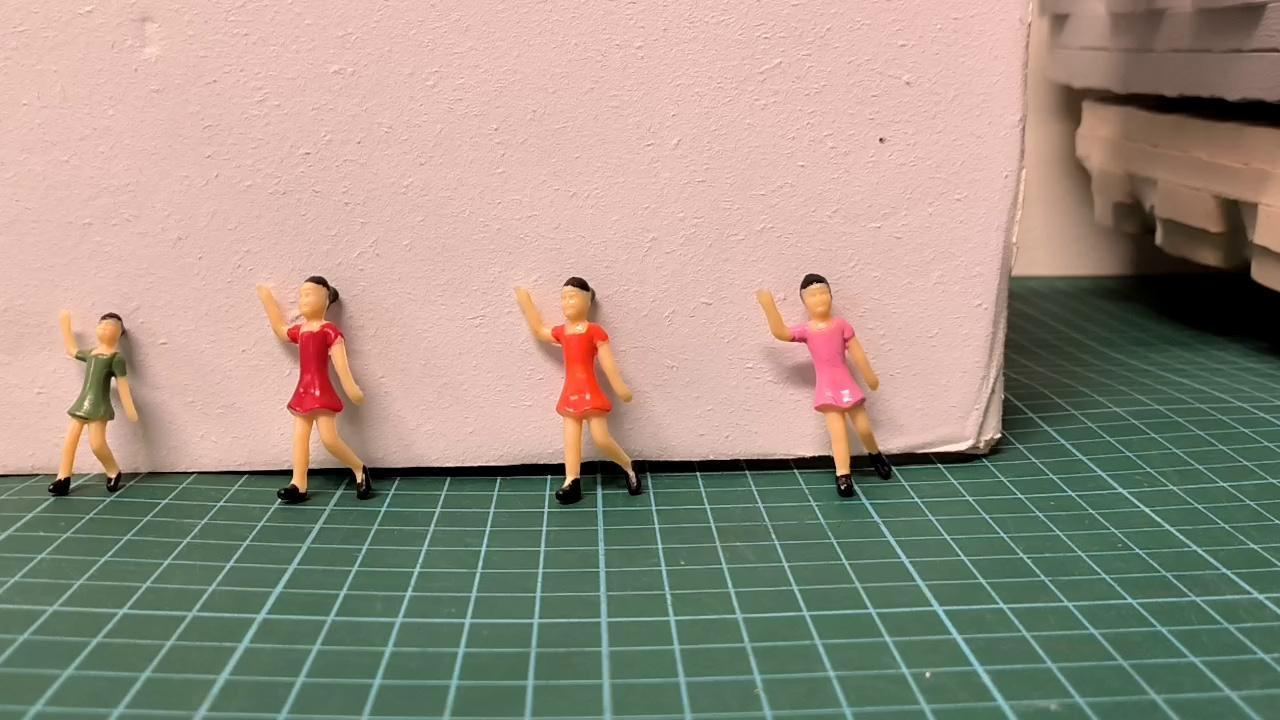human: (749, 268, 894, 502), (511, 275, 646, 505), (257, 274, 380, 507), (43, 310, 144, 500)
